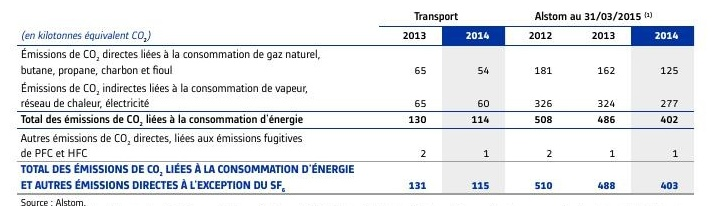table: (0, 0, 712, 206)
